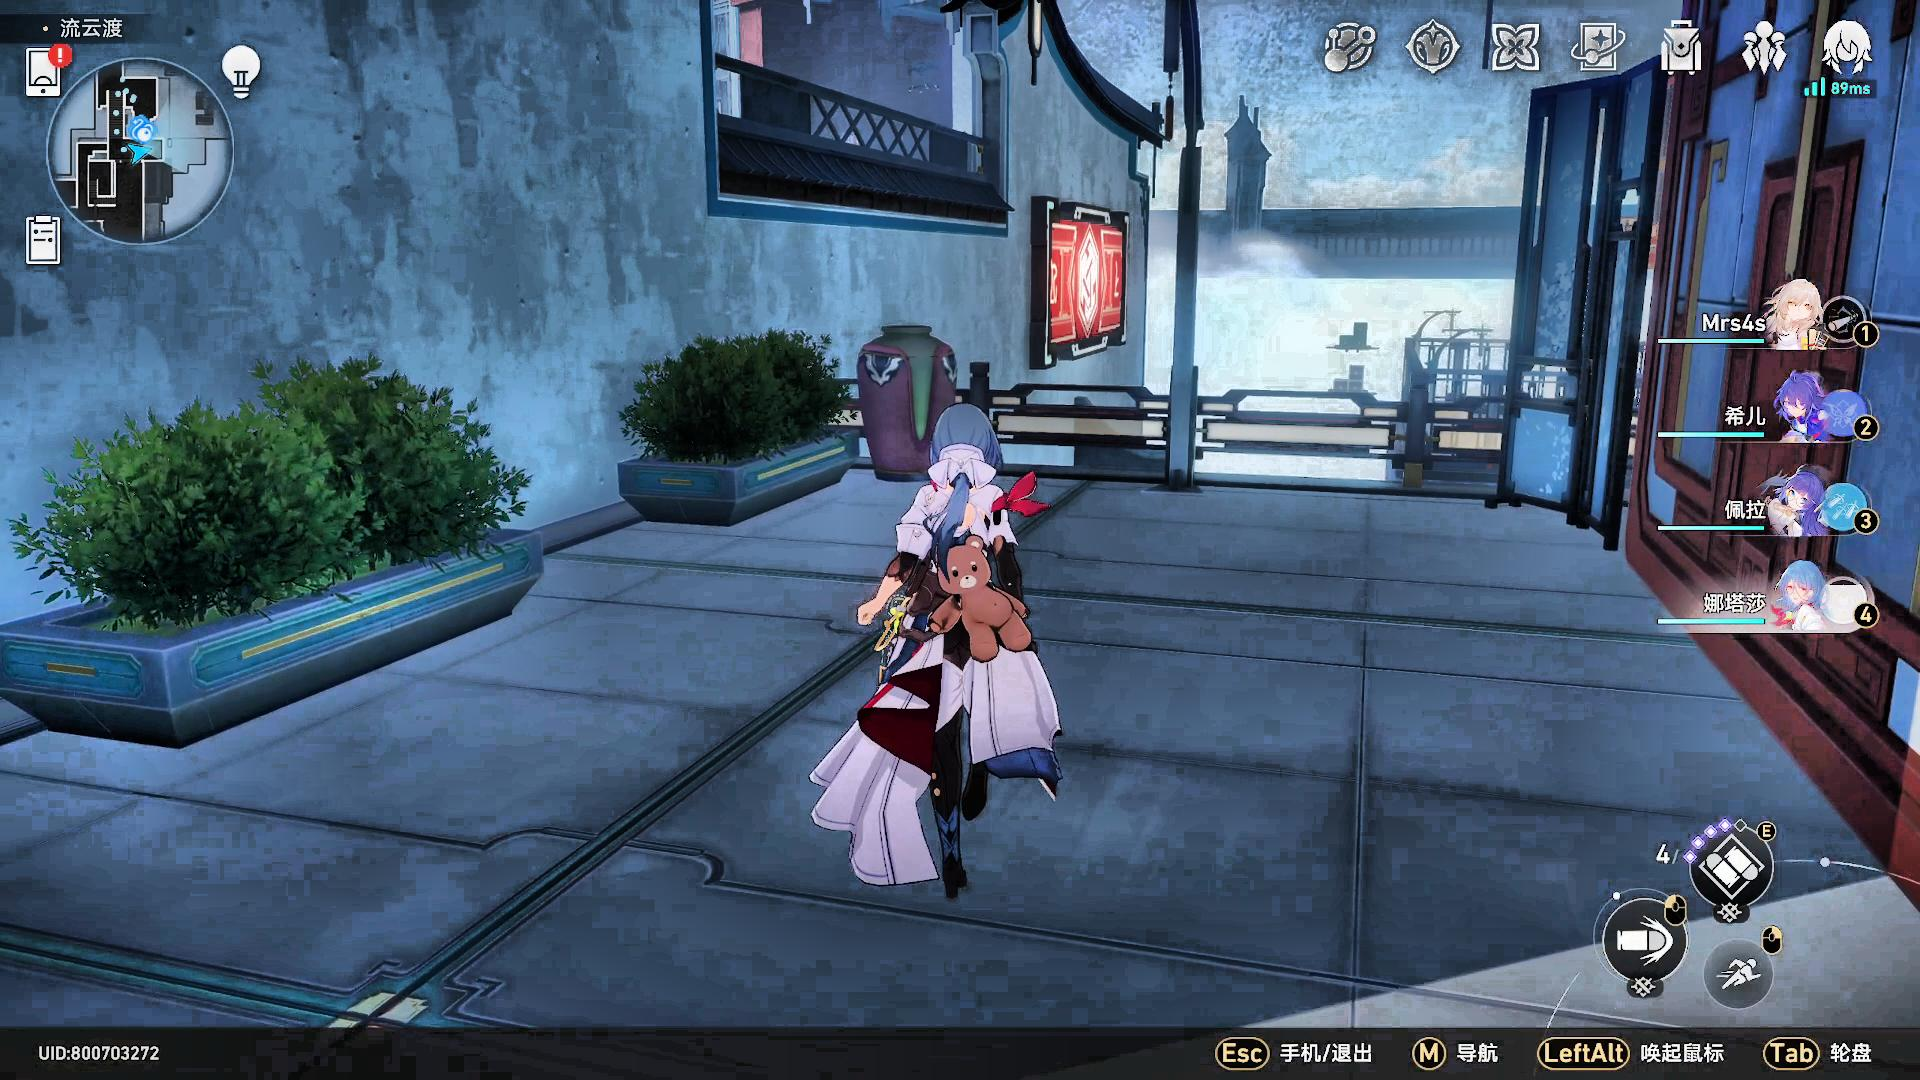Self: (803, 396, 1073, 911)
